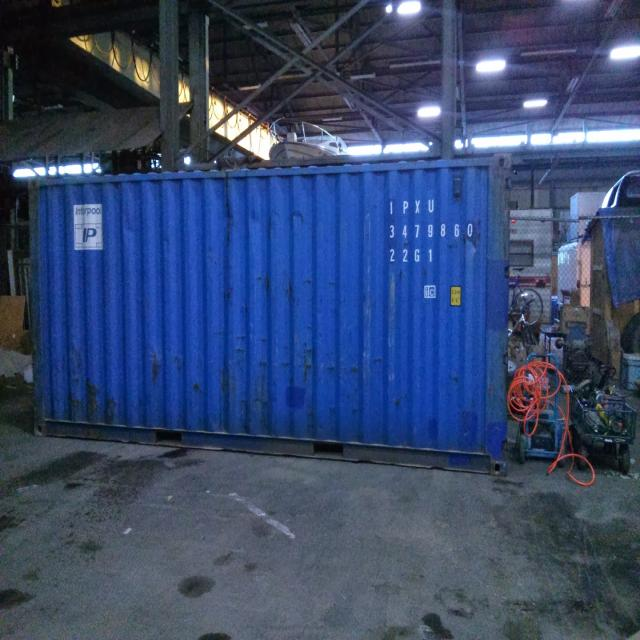rust: (88, 382, 98, 423), (154, 355, 161, 382), (106, 410, 115, 425), (69, 397, 82, 407), (107, 399, 115, 405), (195, 384, 200, 390), (268, 275, 270, 290), (290, 285, 293, 294)
